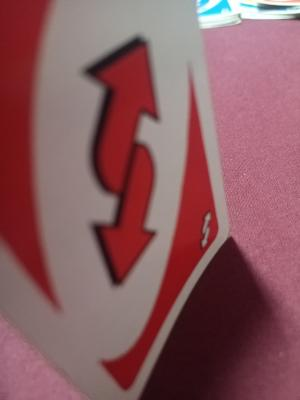reverse: (68, 21, 173, 294), (195, 208, 220, 251)
